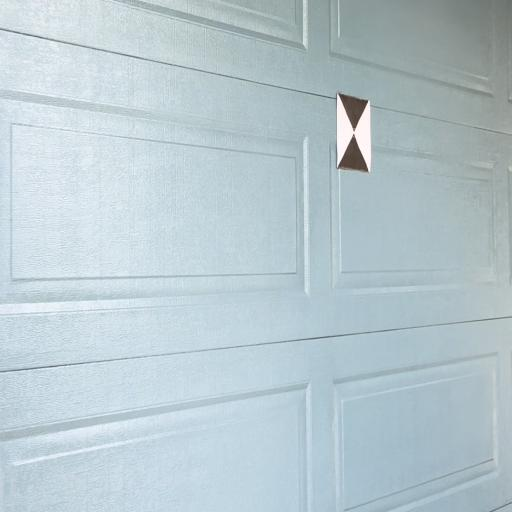target: (337, 95, 370, 174)
